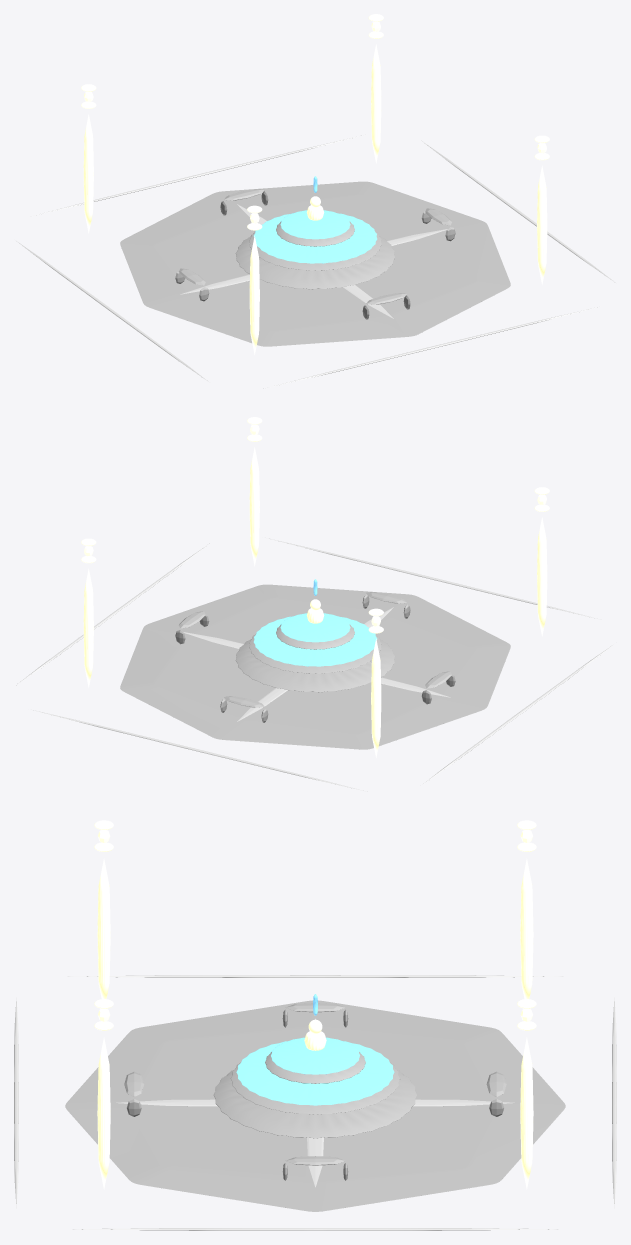
Rendered from district_central_r2_v3.glb.
The picture shows the model from 3 angles, top to bottom: view 1: azimuth 30°, elevation 25°; view 2: azimuth 150°, elevation 25°; view 3: azimuth 270°, elevation 25°; orthographic projection. The views are drawn at different scales.
Visible parts, largest first — view 1: plaza, fount_b1, fount_water1, fount_water2, fount_b2, lamp_post_3, lamp_post_1, lamp_post_0, lamp_post_2, border_s, border_n, fount_b3 (+3 smaller); view 2: plaza, fount_b1, fount_water1, fount_water2, fount_b2, lamp_post_1, lamp_post_3, lamp_post_2, lamp_post_0, border_n, border_s, fount_b3 (+3 smaller); view 3: plaza, fount_b1, fount_water1, fount_water2, fount_b2, lamp_post_1, lamp_post_3, lamp_post_0, lamp_post_2, border_e, border_w, fount_b3 (+3 smaller).
Boxes of the visible parts, bbox=[...] form: plaza: bbox=[120, 181, 510, 346]; fount_b1: bbox=[235, 236, 395, 289]; fount_water1: bbox=[253, 213, 377, 263]; fount_water2: bbox=[280, 210, 350, 239]; fount_b2: bbox=[249, 231, 381, 270]; lamp_post_3: bbox=[371, 44, 381, 163]; lamp_post_1: bbox=[537, 165, 547, 284]; lamp_post_0: bbox=[249, 236, 259, 354]; lamp_post_2: bbox=[83, 114, 93, 233]; border_s: bbox=[267, 306, 599, 387]; border_n: bbox=[30, 134, 365, 216]; fount_b3: bbox=[276, 221, 354, 246]; plaza: bbox=[120, 584, 510, 749]; fount_b1: bbox=[235, 639, 395, 692]; fount_water1: bbox=[253, 616, 377, 666]; fount_water2: bbox=[280, 613, 350, 642]; fount_b2: bbox=[249, 634, 381, 673]; lamp_post_1: bbox=[249, 447, 259, 566]; lamp_post_3: bbox=[83, 568, 93, 687]; lamp_post_2: bbox=[371, 639, 381, 757]; lamp_post_0: bbox=[537, 517, 547, 636]; border_n: bbox=[31, 709, 363, 790]; border_s: bbox=[265, 537, 600, 619]; fount_b3: bbox=[276, 624, 354, 649]; plaza: bbox=[65, 1000, 565, 1211]; fount_b1: bbox=[213, 1070, 417, 1138]; fount_water1: bbox=[236, 1041, 394, 1105]; fount_water2: bbox=[271, 1037, 359, 1074]; fount_b2: bbox=[230, 1063, 400, 1114]; lamp_post_1: bbox=[97, 1037, 110, 1189]; lamp_post_3: bbox=[520, 1037, 533, 1189]; lamp_post_0: bbox=[97, 858, 110, 998]; lamp_post_2: bbox=[520, 858, 533, 998]; border_e: bbox=[73, 1228, 557, 1230]; border_w: bbox=[68, 975, 562, 977]; fount_b3: bbox=[265, 1052, 365, 1083].
Size of the model in its own units: 9.98 by 3.59 by 9.98.
